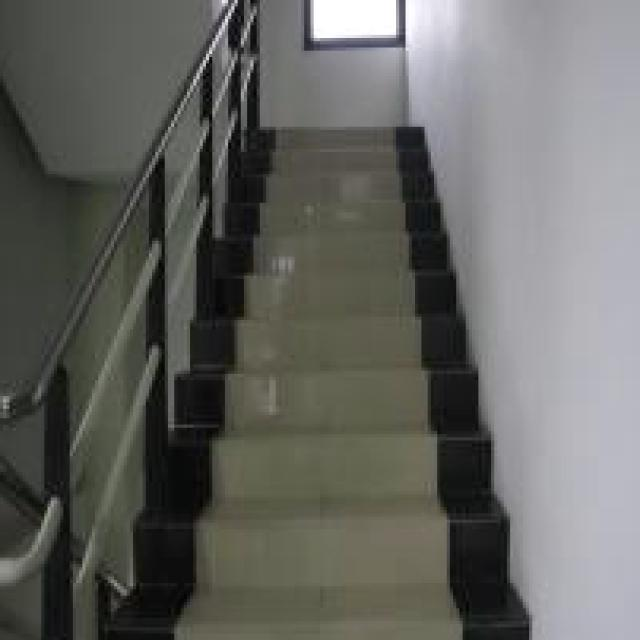upstair: (213, 124, 466, 640)
